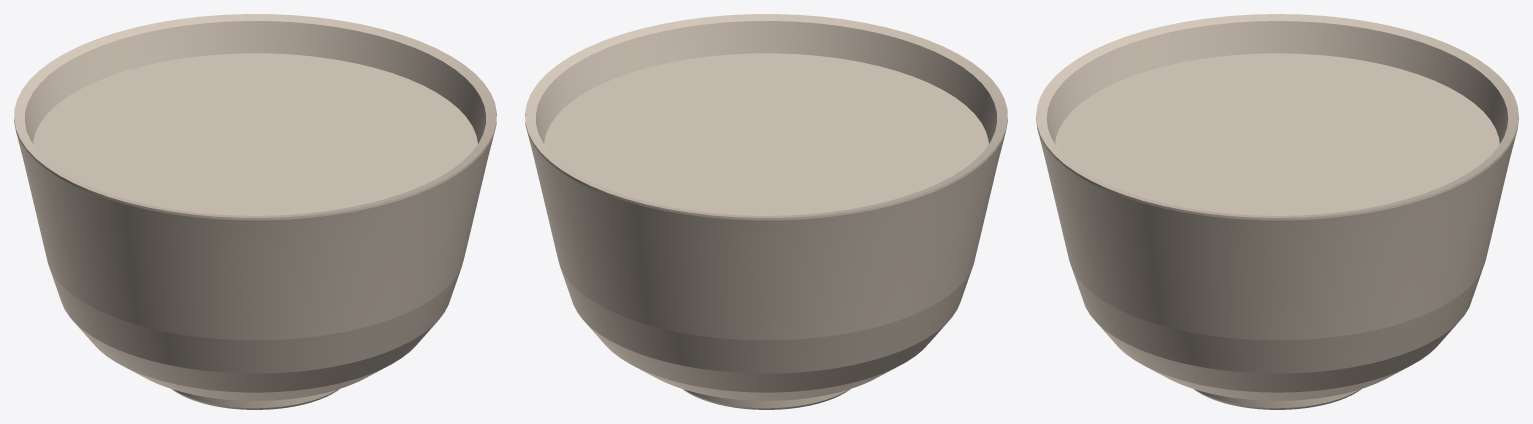
3 renders of one model, left to right at view 1: azimuth 30°, elevation 25°; view 2: azimuth 150°, elevation 25°; view 3: azimuth 270°, elevation 25°, orthographic.
Visible parts, largest first — view 1: bowl; view 2: bowl; view 3: bowl.
Boxes of the visible parts, x1,y1,x2,y2 form: bowl: (14, 14, 496, 409); bowl: (525, 14, 1007, 409); bowl: (1036, 14, 1518, 409).
Size of the model in its own units: 0.18 by 0.1041 by 0.18.
